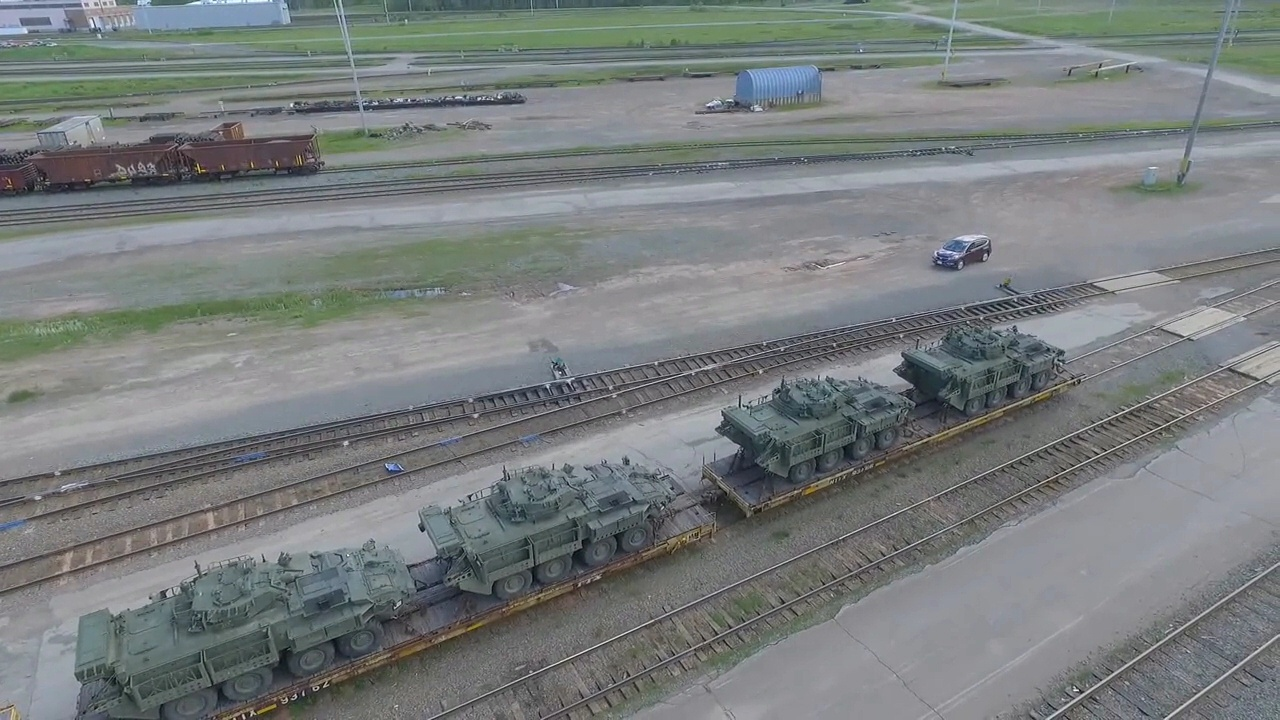tank: (71, 539, 412, 720), (416, 456, 686, 613), (715, 370, 916, 494), (899, 324, 1066, 417)
